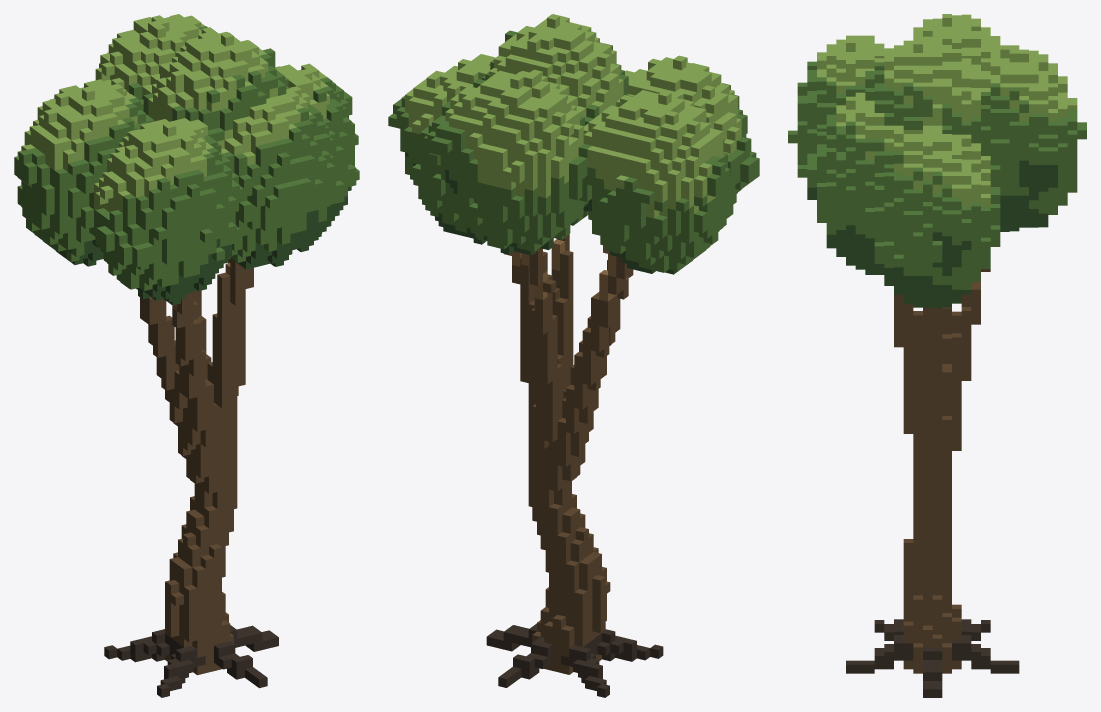
Rendered from ancient_oak_v2_species2_near.glb.
The picture shows the model from 3 angles, left to right: view 1: azimuth 30°, elevation 25°; view 2: azimuth 150°, elevation 25°; view 3: azimuth 270°, elevation 25°; orthographic projection.
Parts seen in each view (by area): view 1: ancient_oak_v2_species2_near; view 2: ancient_oak_v2_species2_near; view 3: ancient_oak_v2_species2_near.
Part boxes in pixels (x1,y1,x2,y2): ancient_oak_v2_species2_near: (14, 14, 359, 697); ancient_oak_v2_species2_near: (388, 14, 759, 697); ancient_oak_v2_species2_near: (788, 14, 1086, 697).
Size of the model in its own units: 4.88 by 9 by 3.88.
1 material, 1 textured.
